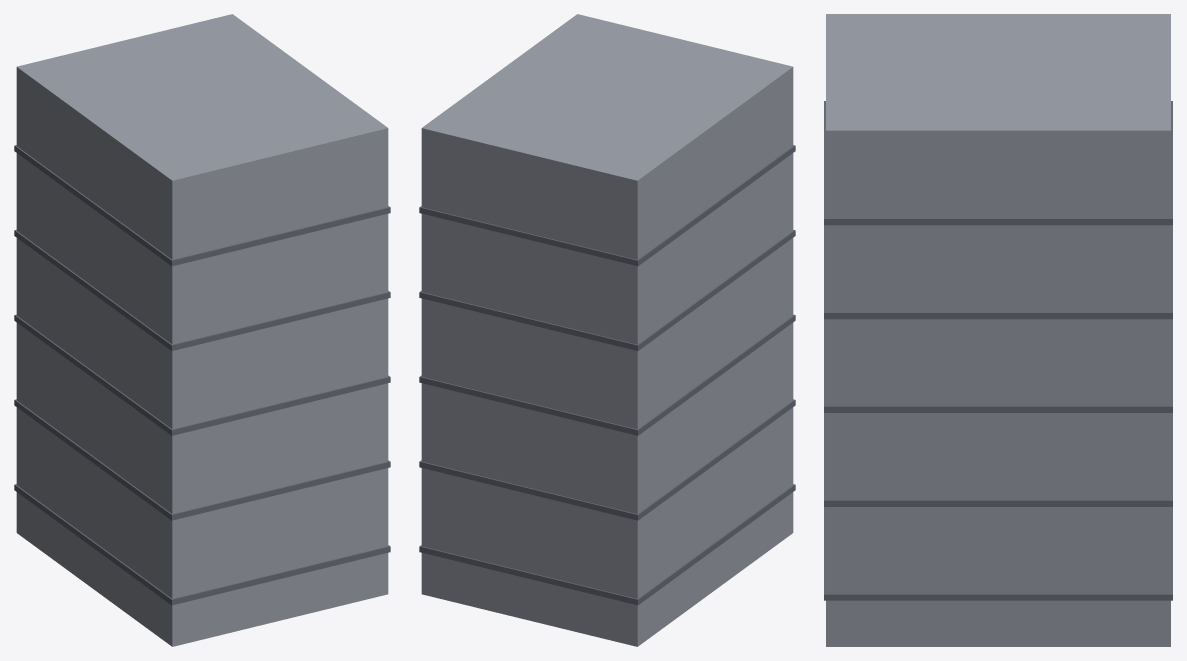
The model's file is ledge.glb.
3 renders of one model, left to right at view 1: azimuth 30°, elevation 25°; view 2: azimuth 150°, elevation 25°; view 3: azimuth 270°, elevation 25°, orthographic. The views are drawn at different scales.
Visible parts, largest first — view 1: ledge; view 2: ledge; view 3: ledge.
Boxes of the visible parts, left/top/right/bottom form: ledge: left=14, top=14, right=390, bottom=646; ledge: left=419, top=14, right=795, bottom=646; ledge: left=824, top=14, right=1172, bottom=646.
Bounding box in the file's own units: 0.81 × 1.65 × 1.01.
Materials: 1 (1 with a texture image).
